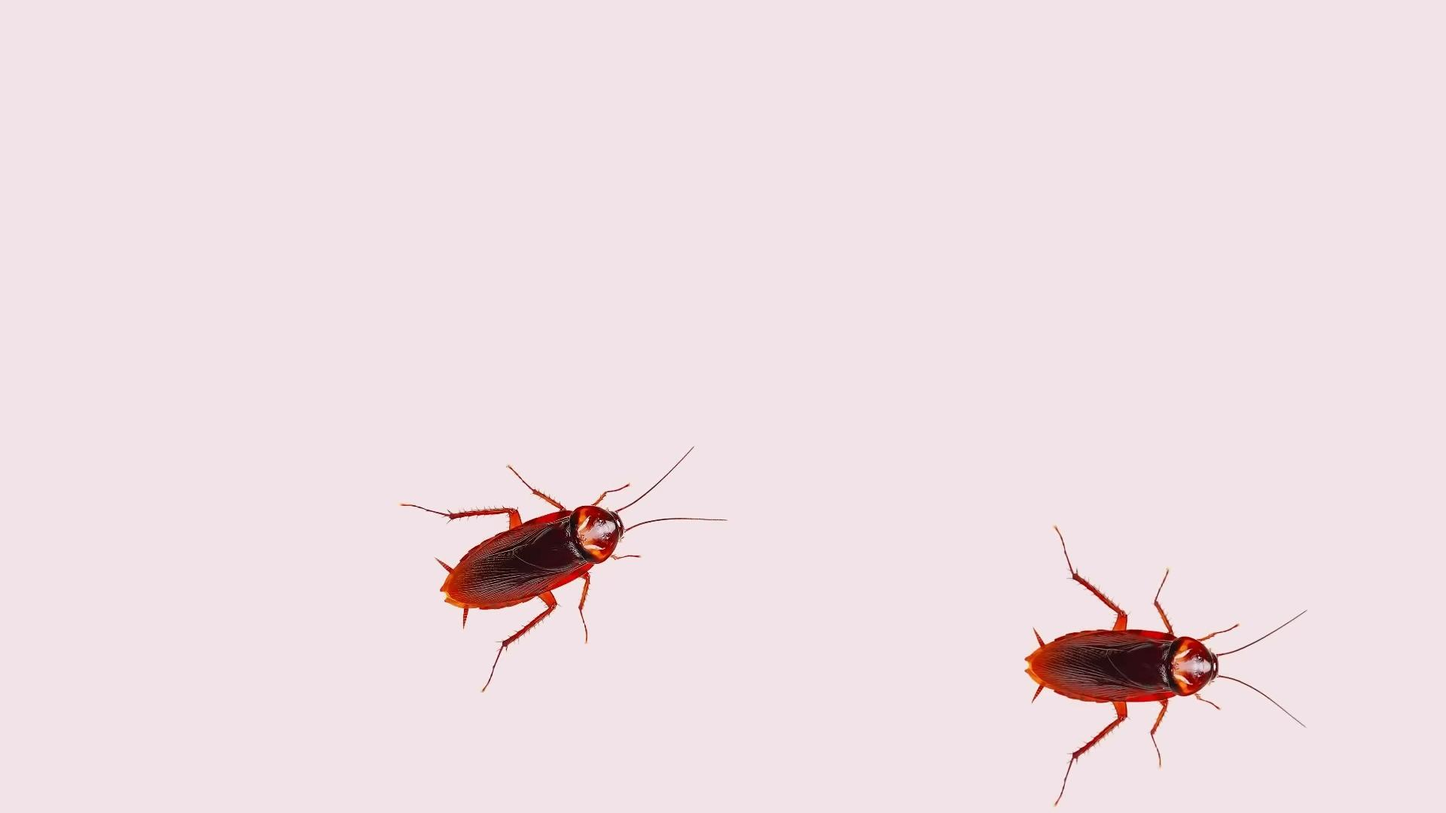cockroach: (377, 437, 732, 691), (1008, 528, 1306, 810)
